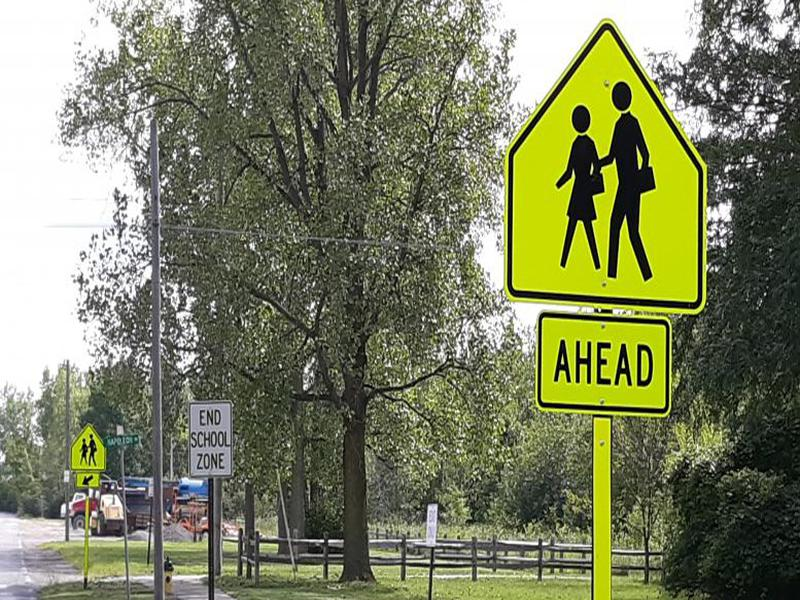slow: (496, 20, 711, 316), (65, 419, 112, 469)
